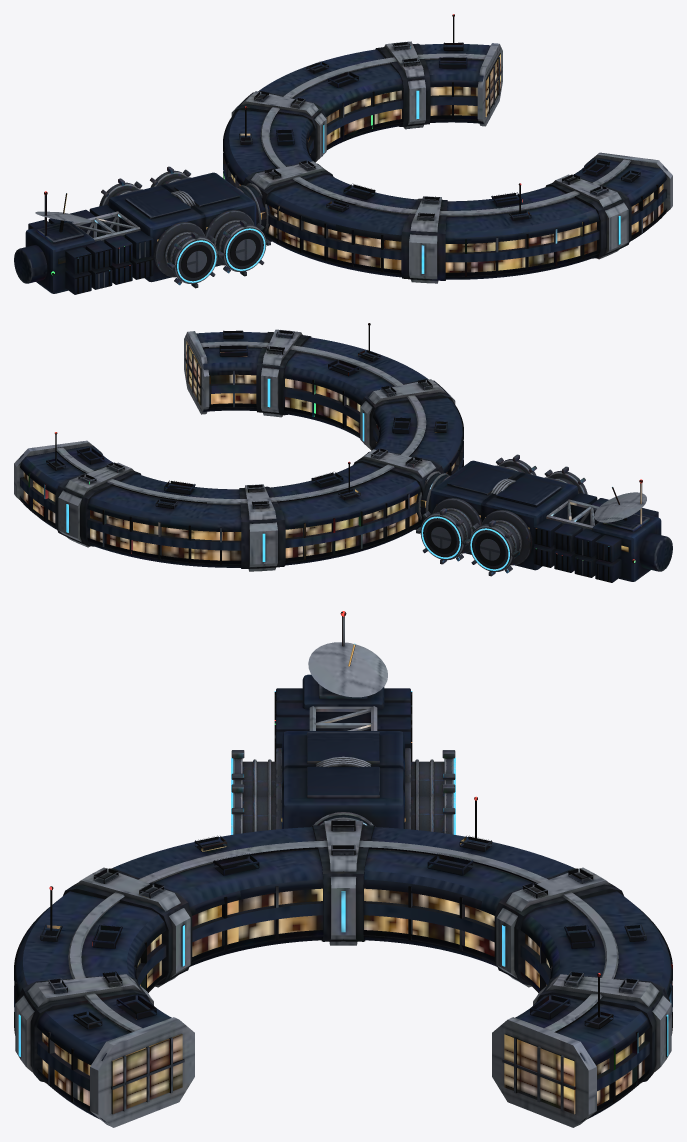
File: station-ceres-port.glb
The picture shows the model from 3 angles, top to bottom: view 1: azimuth 30°, elevation 25°; view 2: azimuth 150°, elevation 25°; view 3: azimuth 270°, elevation 25°; orthographic projection. The views are drawn at different scales.
Parts seen in each view (by area): view 1: station, berth_4, berth_2, berth_3, berth_1; view 2: station, berth_3, berth_1, berth_4, berth_2; view 3: station, berth_1, berth_2, berth_3, berth_4.
Part boxes in pixels (box(x1,y1,x2,y2)): station: box(14, 14, 672, 294); berth_4: box(154, 222, 221, 288); berth_2: box(204, 210, 270, 276); berth_3: box(99, 178, 142, 206); berth_1: box(150, 166, 191, 187); station: box(14, 323, 672, 582); berth_3: box(465, 510, 532, 576); berth_1: box(416, 498, 482, 564); berth_4: box(544, 466, 587, 494); berth_2: box(495, 454, 536, 475); station: box(14, 611, 672, 1127); berth_1: box(404, 782, 455, 834); berth_2: box(231, 782, 282, 834); berth_3: box(404, 748, 455, 795); berth_4: box(231, 748, 282, 795).
Bounding box in the file's own units: 1 × 0.1732 × 0.6995.
2 materials, 2 textured.
